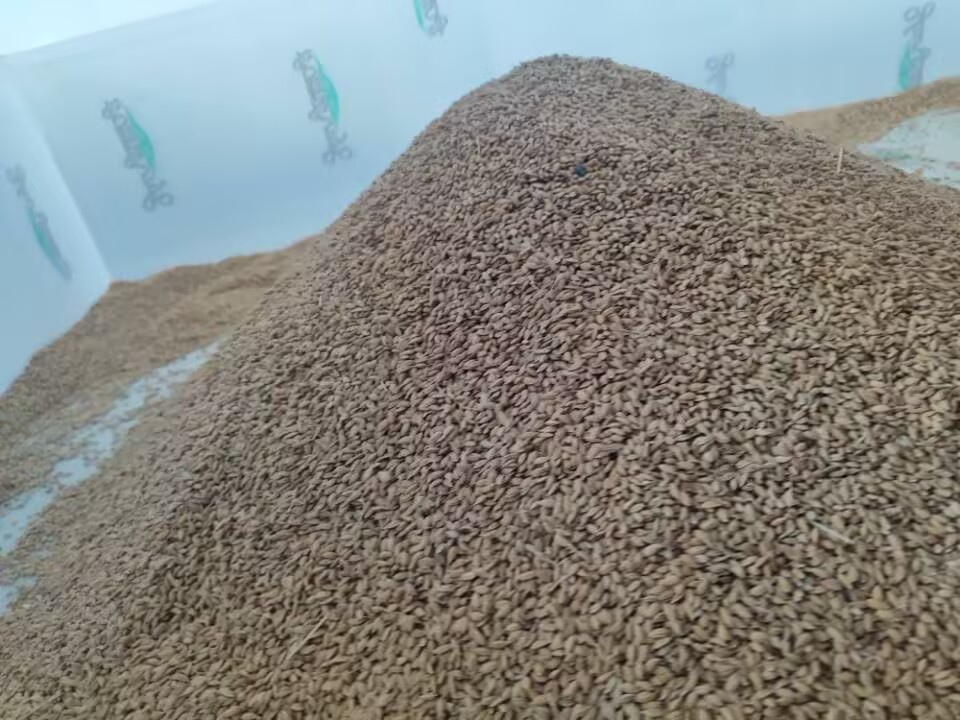Grain: (156, 26, 948, 661)
